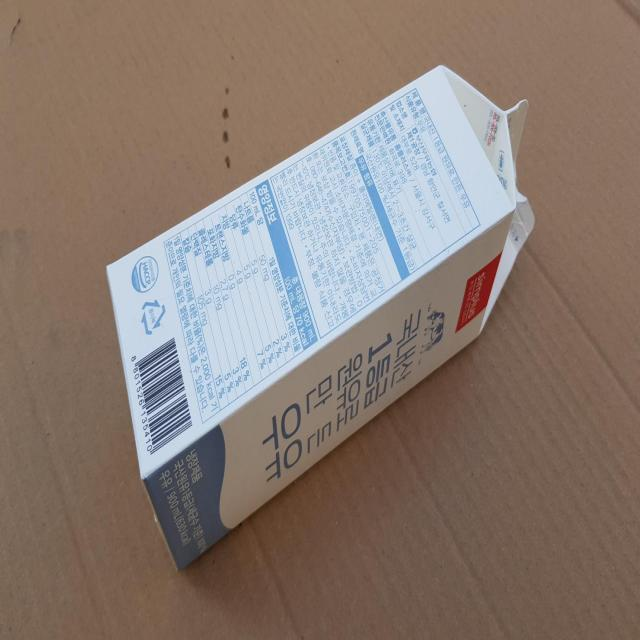paperpack: (106, 65, 535, 569)
